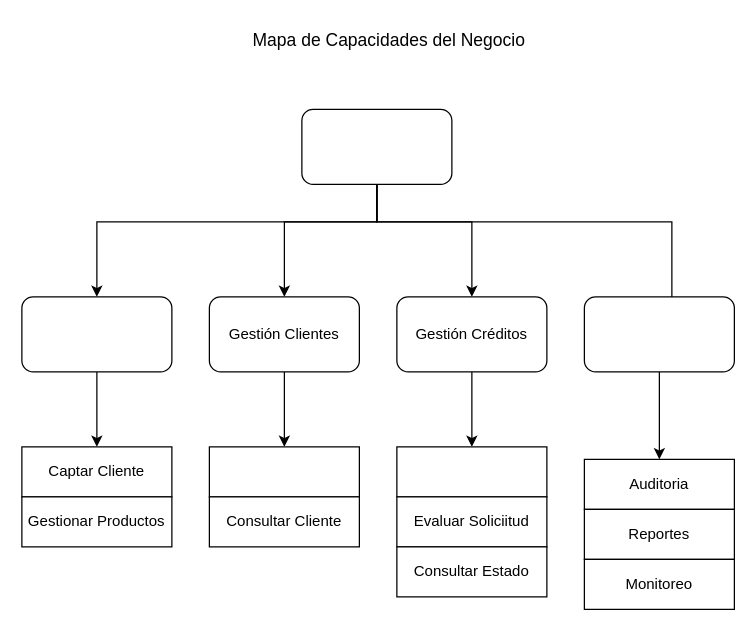
This 756x631 diagram has some shape labels left out. Each missing label, with the centre of its shape:
Gestión Comercial: pixel 96 334
Gestión Operativa: pixel 658 334
NEGOCIO: pixel 376 146
Registrar Cliente: pixel 283 471
Registrar Solicitud: pixel 471 471
